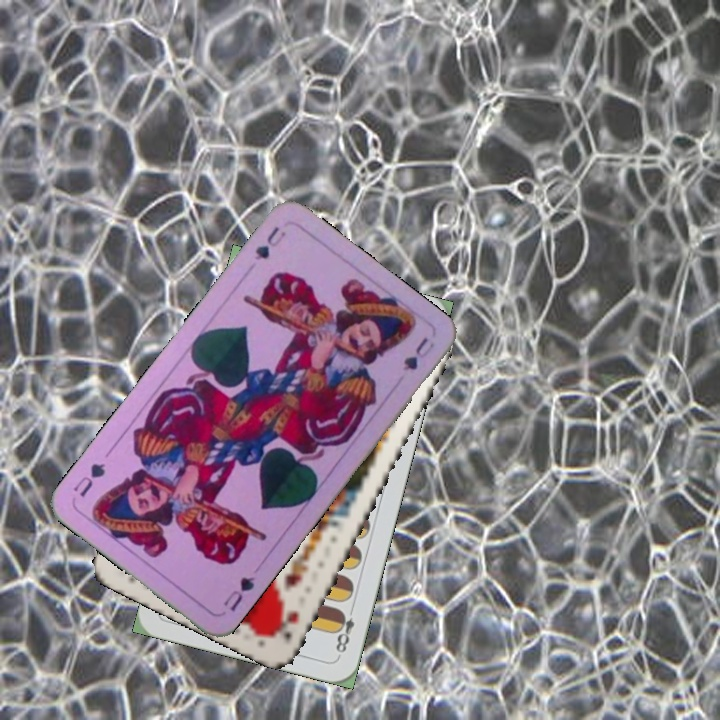E8: (330, 601, 358, 659)
GU: (219, 572, 258, 614), (250, 222, 289, 263)
HK: (270, 606, 302, 644)
